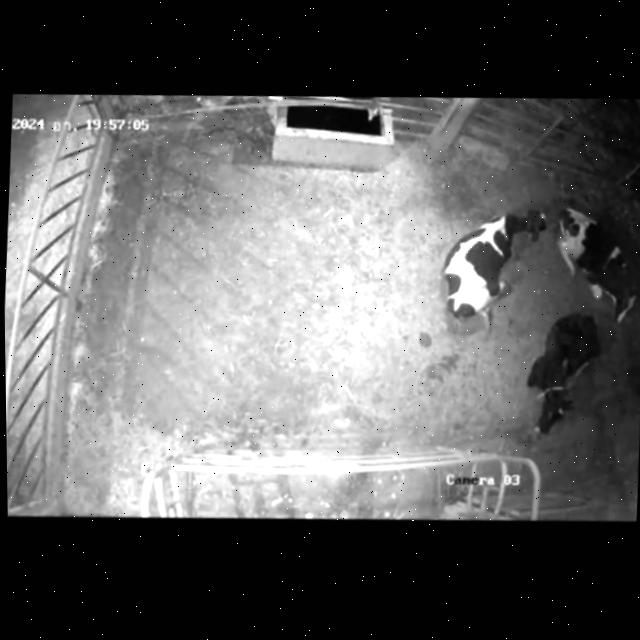lay: (410, 188, 554, 342), (513, 290, 619, 445), (542, 184, 640, 330)
